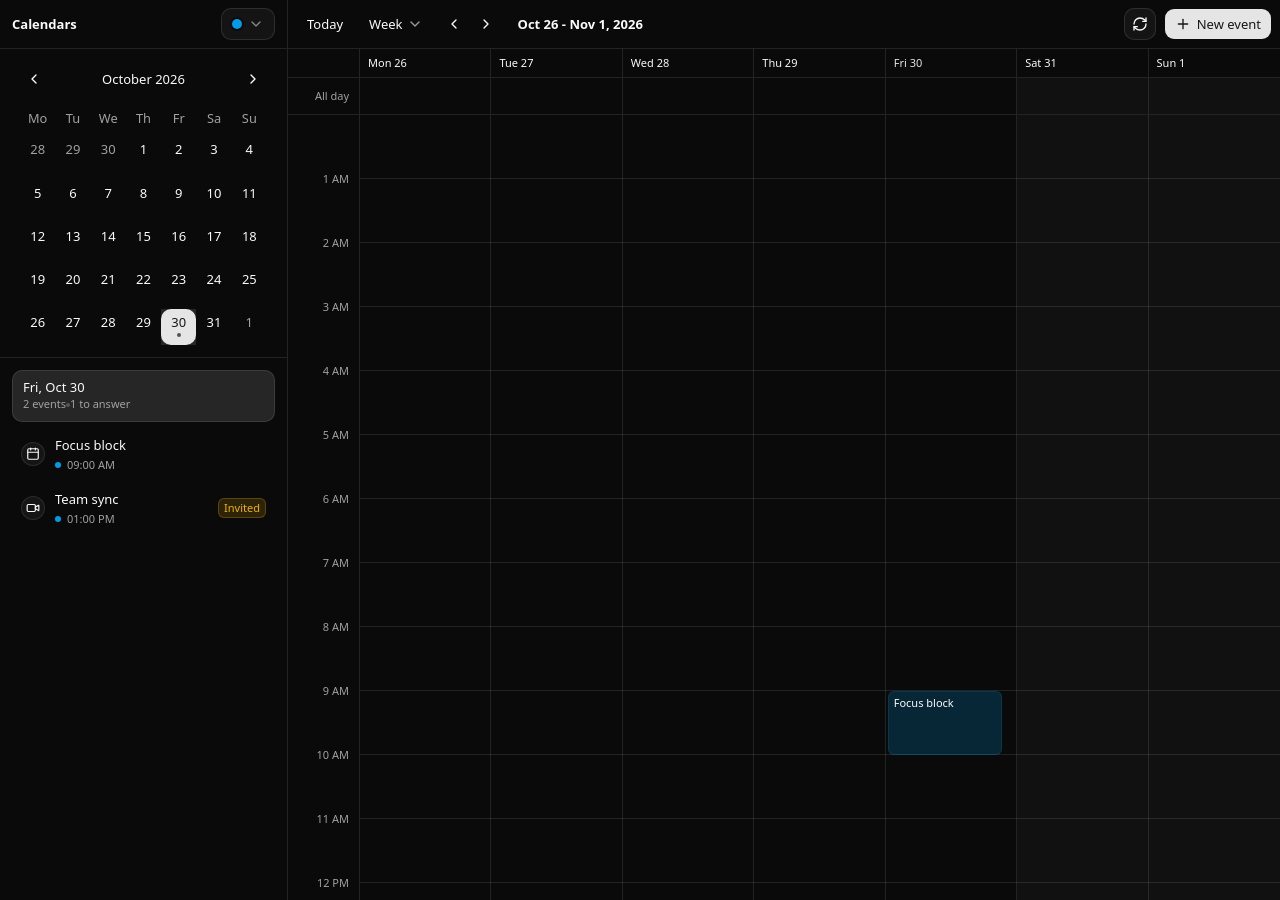
Test: the calendar view › a refused save says why and keeps the form
Step 1. Click the button "New event" → (1218, 24), box [1164, 8, 1272, 40]
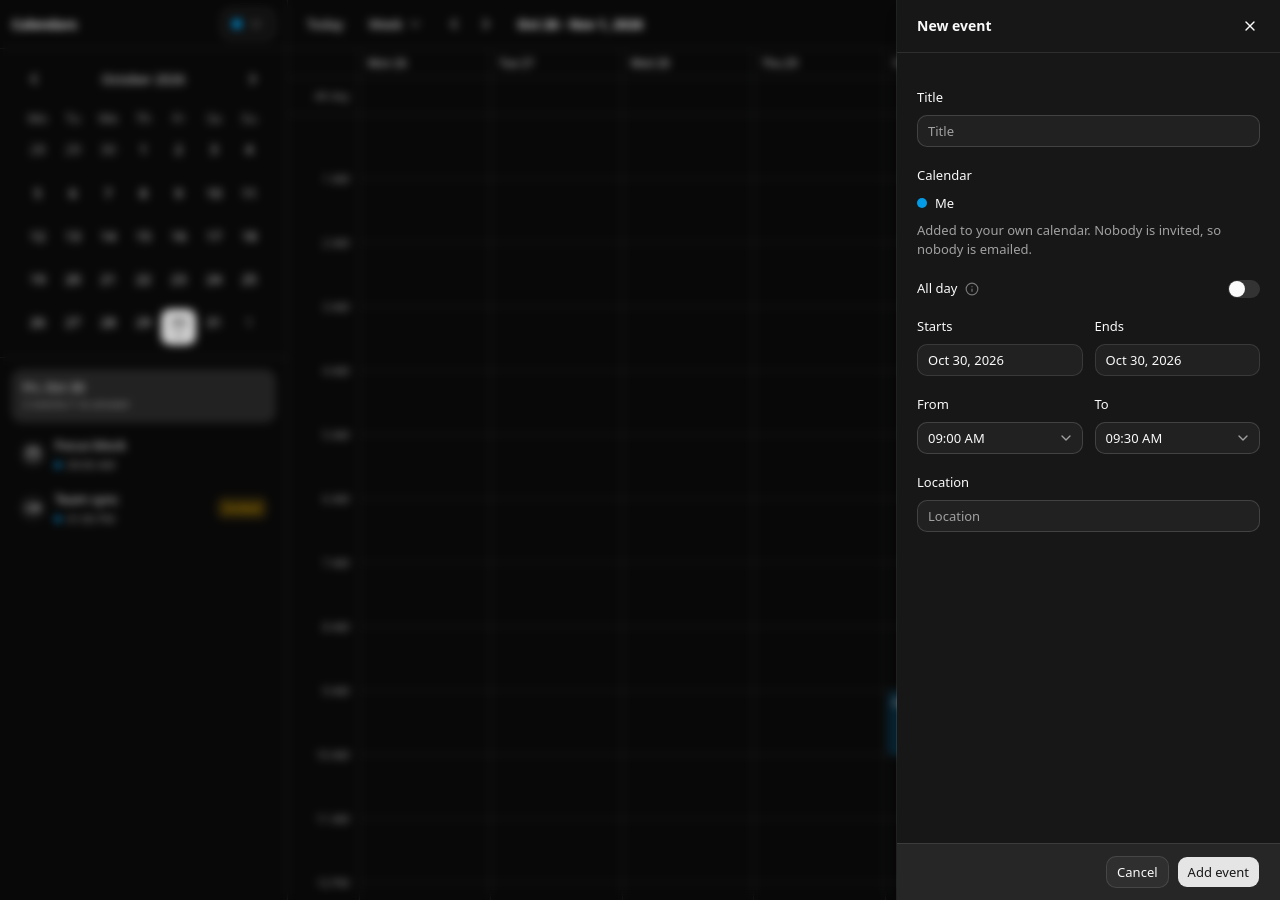
Step 2. Click the button "Add event" → (1218, 872), box [1177, 856, 1260, 888]
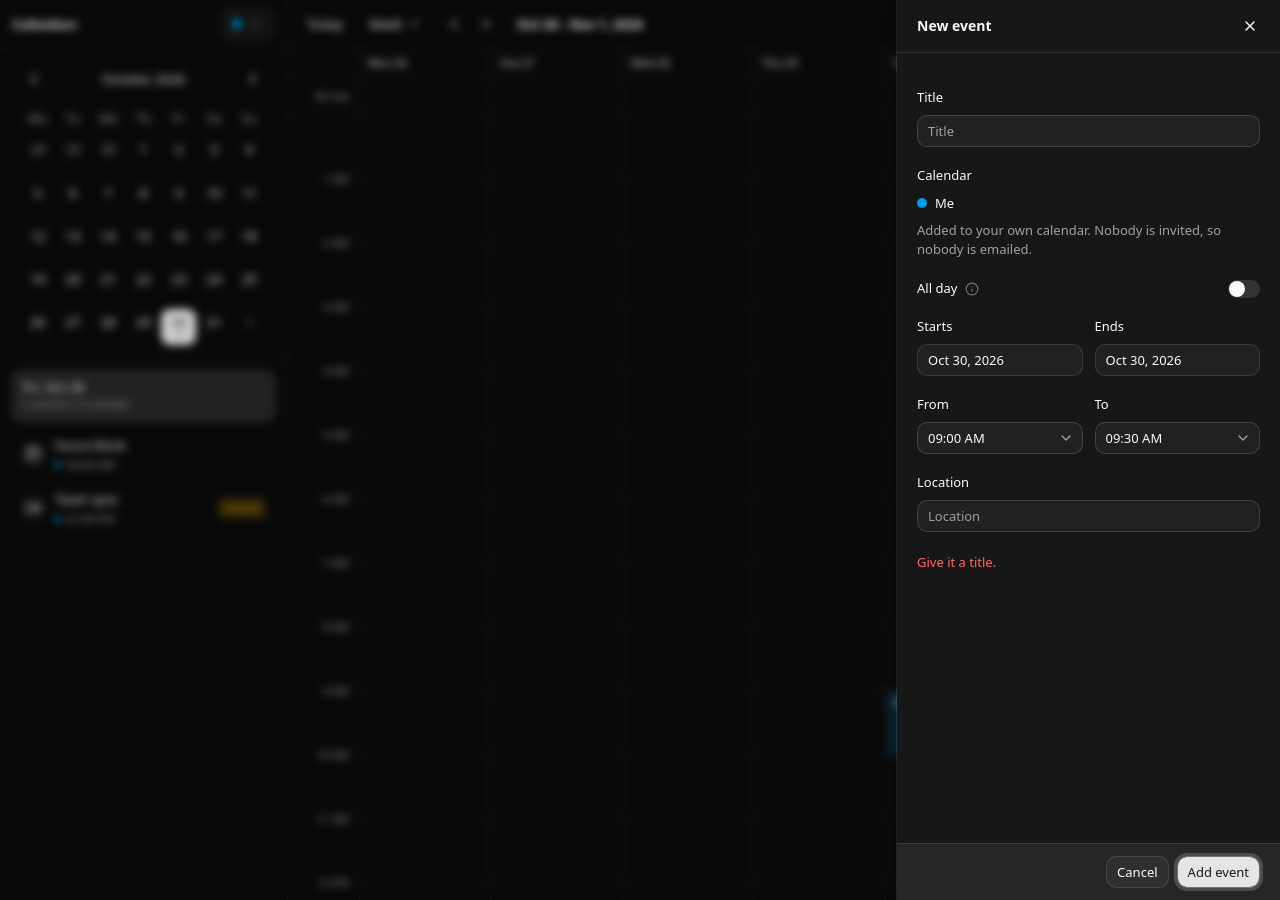
expect the message reads "Give it a title.": met, box [917, 553, 996, 571]
Step 3. Type "Standup" into the field labelled "Title" → (1088, 131), box [917, 115, 1260, 147]
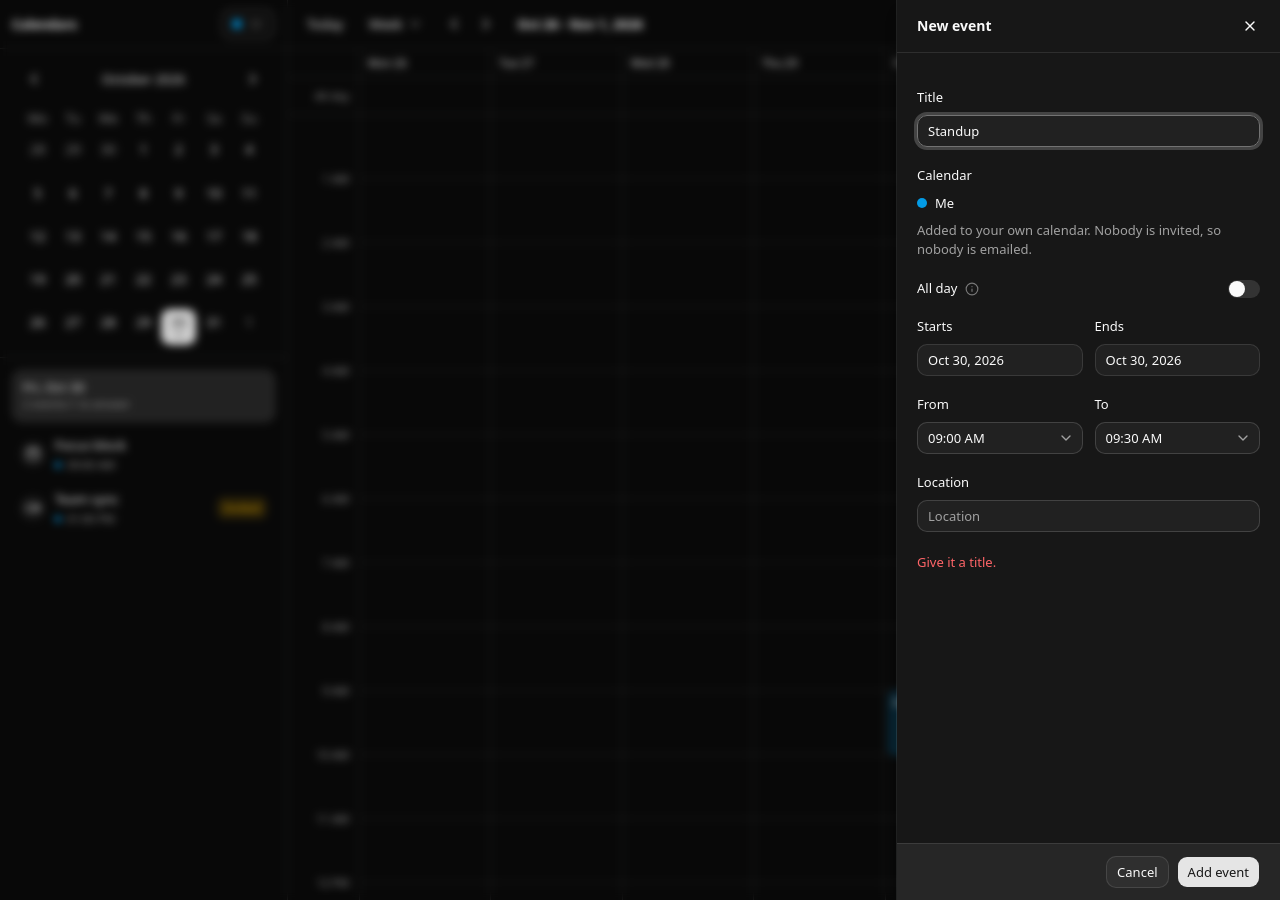
Step 4. Click the button "Add event" → (1218, 872), box [1177, 856, 1260, 888]
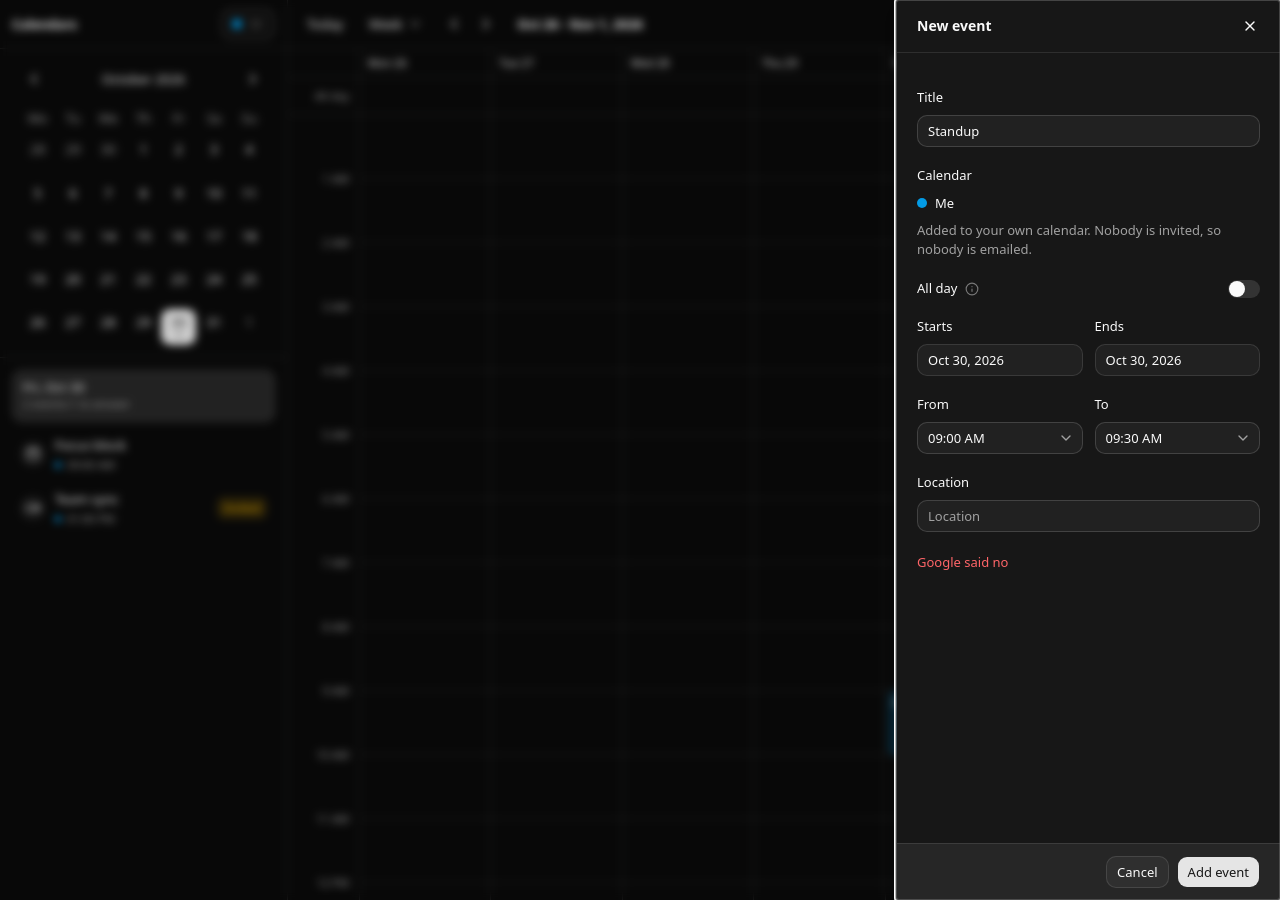
expect the text "Google said no" is shown: met, box [917, 553, 1008, 571]
